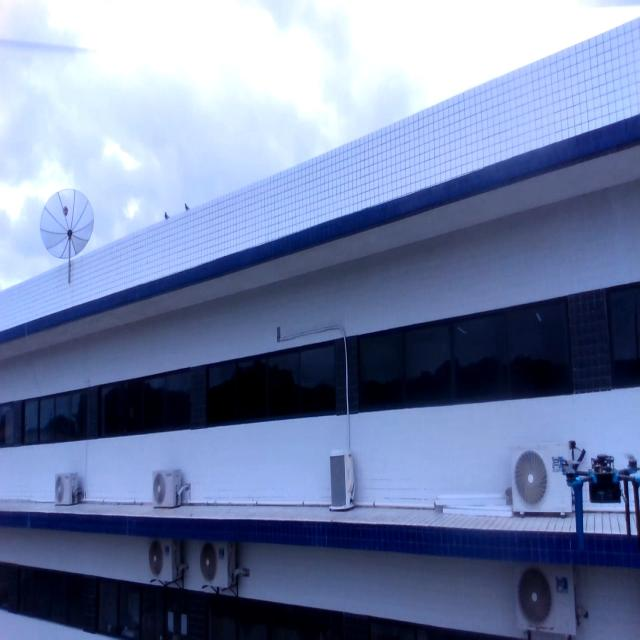-uav-: (553, 440, 640, 557)
